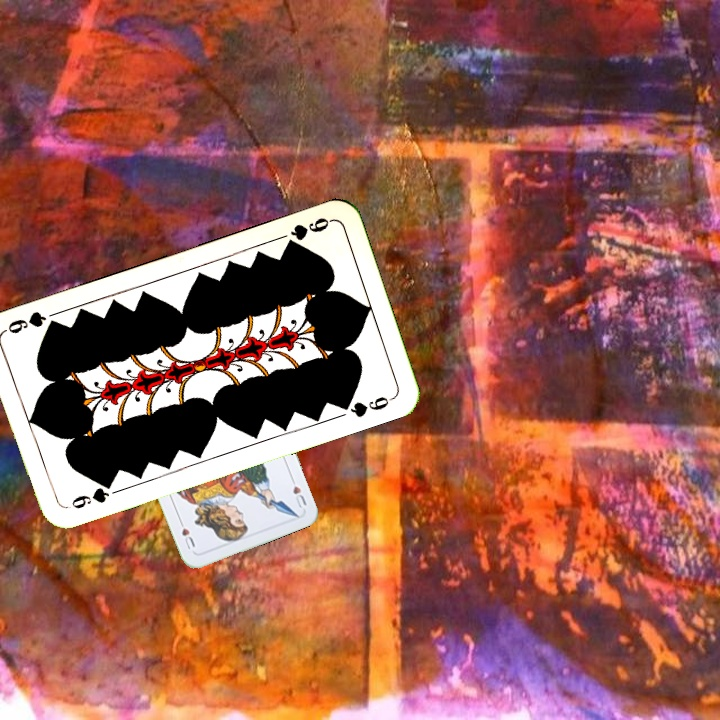G9: (281, 213, 335, 251), (62, 477, 116, 512)
HU: (286, 472, 309, 510)
